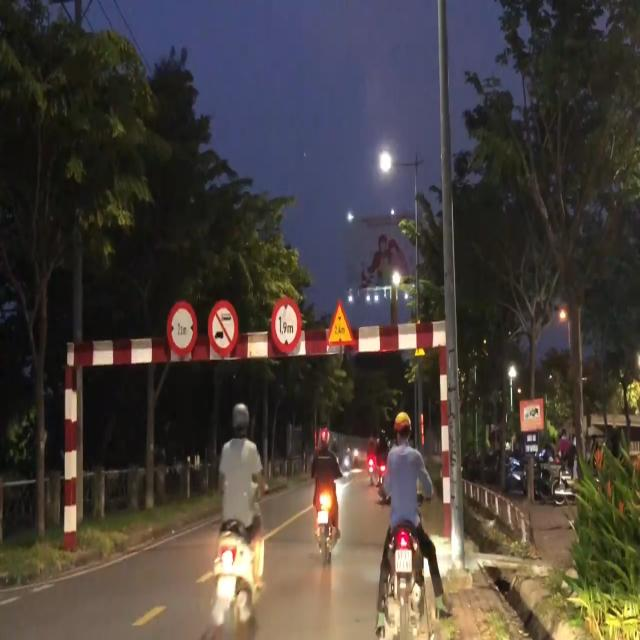Bien bao cam xe oto khach va xe oto tai: (207, 294, 239, 362)
Bien bao chieu cao tinh khong thuc te: (325, 297, 356, 352)
Bien bao han che chieu cao: (270, 294, 302, 360)
